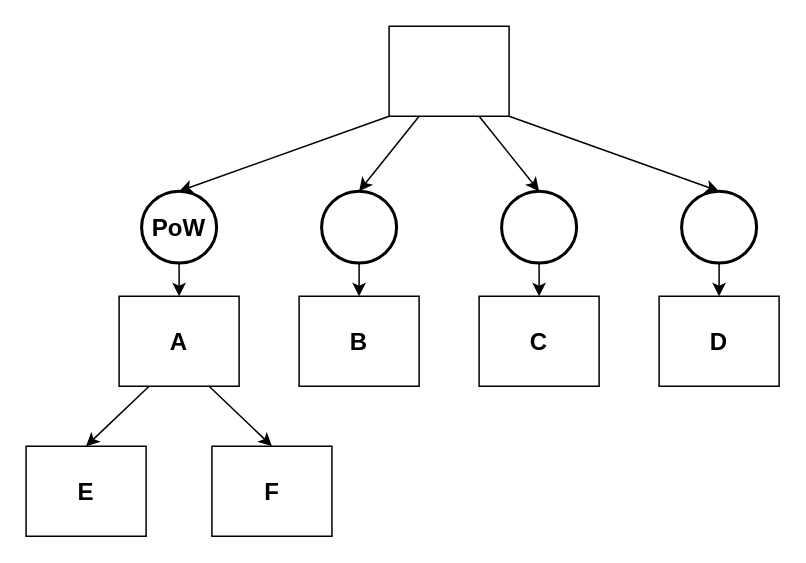
Image size: 806x563. Some labels were removed from this diagram. Here are the shapes that lost their labels. From the top down, the box of each, then its label:
(388, 25, 509, 116): Genesis
(319, 189, 397, 264): PoS
(499, 189, 577, 264): PoET
(679, 189, 757, 264): PBFT
